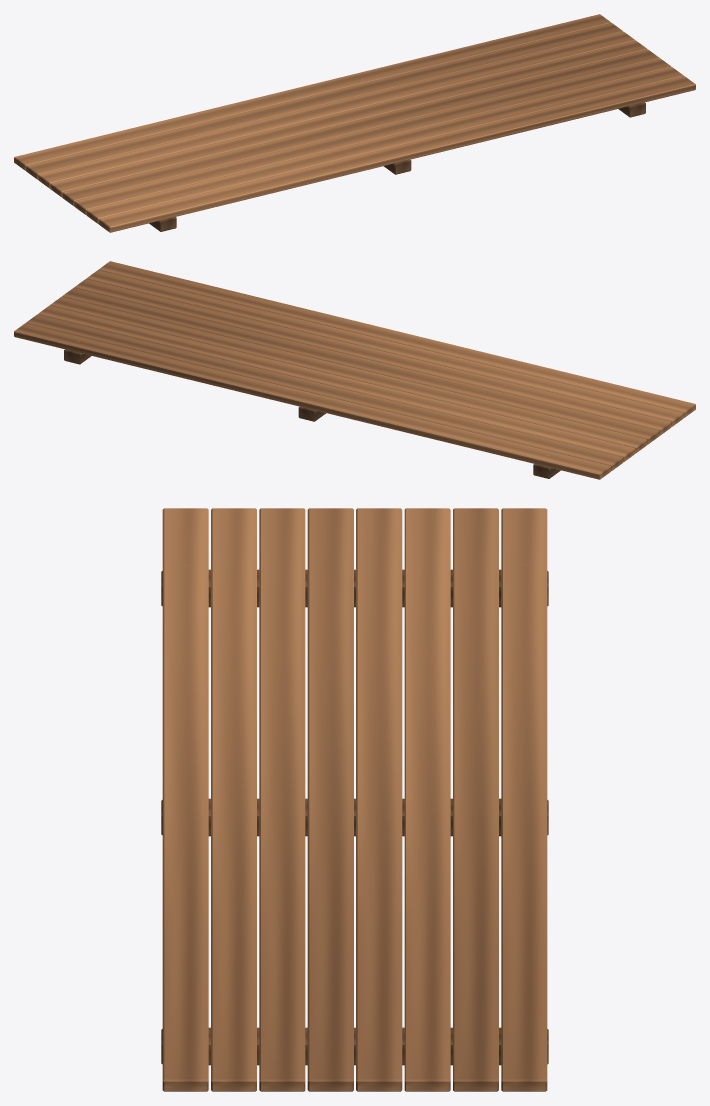
File: town_building_floor_bay_v01.glb
3 views of the same model, one above another, from view 1: azimuth 30°, elevation 25°; view 2: azimuth 150°, elevation 25°; view 3: azimuth 270°, elevation 25° (orthographic). The views are drawn at different scales.
Parts seen in each view (by area): view 1: LOD0_Static; view 2: LOD0_Static; view 3: LOD0_Static.
Boxes of the visible parts, x1,y1,x2,y2 form: LOD0_Static: (14,14,695,232); LOD0_Static: (14,261,695,479); LOD0_Static: (161,508,548,1091).
Size of the model in its own units: 3.5 by 0.1 by 1.
2 materials, 2 textured.
